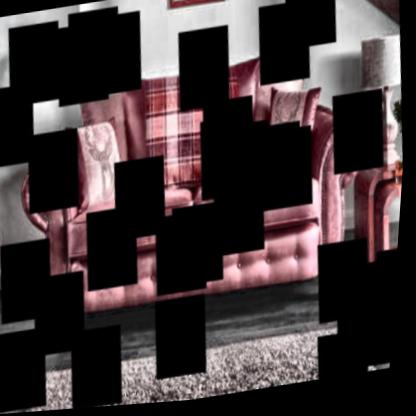Sofa: (32, 50, 356, 321)
